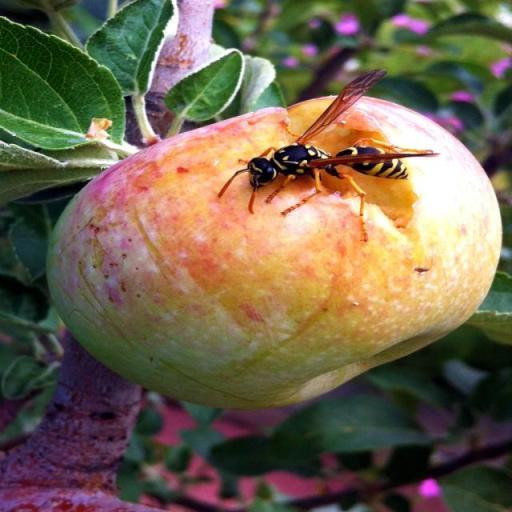fruit: (48, 98, 499, 406)
